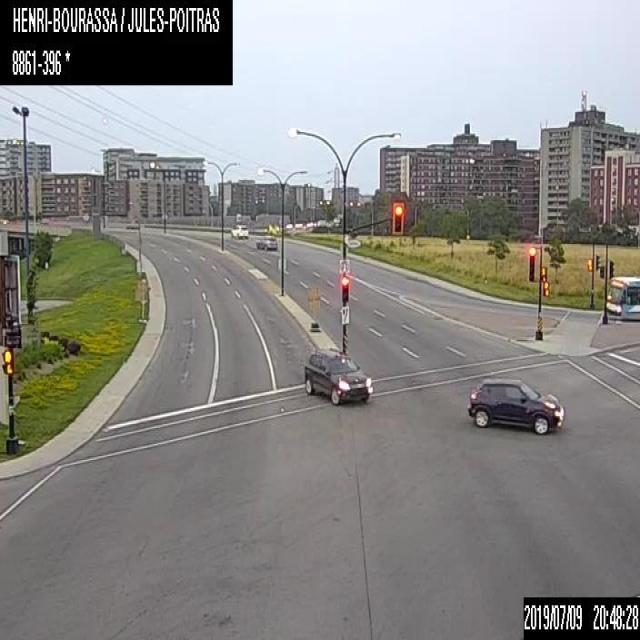bus: (606, 273, 639, 319)
vehicle: (468, 376, 564, 433), (301, 348, 373, 405), (255, 235, 277, 249), (230, 223, 247, 237)
